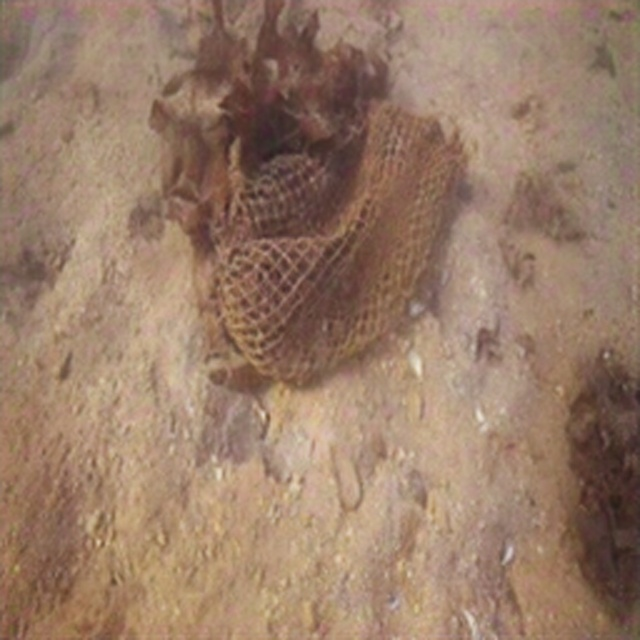mine: (220, 101, 461, 382)
